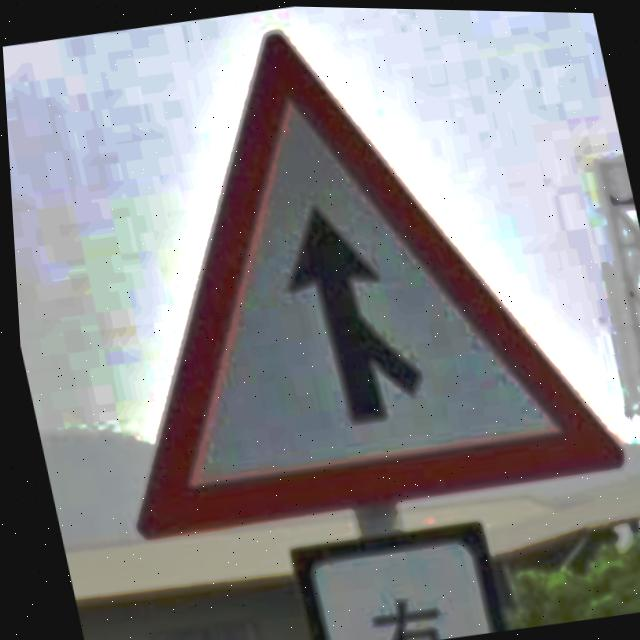rightmerge: (130, 31, 622, 541)
